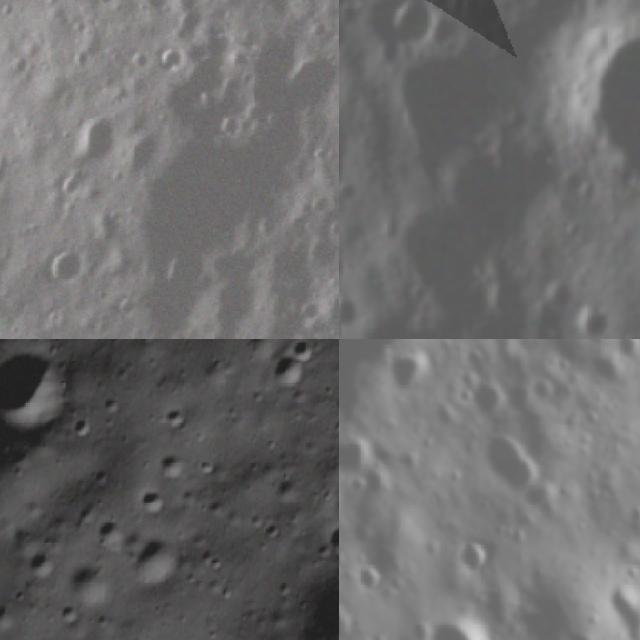crater: (86, 72, 317, 305), (554, 0, 640, 204), (0, 339, 94, 453), (154, 40, 252, 138), (233, 14, 316, 97), (116, 520, 196, 602), (271, 32, 339, 125), (55, 546, 127, 619), (479, 429, 547, 497), (35, 235, 103, 302), (68, 104, 132, 170), (256, 344, 321, 407), (122, 476, 178, 532), (16, 535, 70, 591), (148, 438, 202, 492), (595, 582, 640, 640), (152, 392, 202, 442), (305, 266, 339, 339), (88, 511, 137, 560), (418, 609, 493, 640), (385, 344, 430, 393), (272, 339, 330, 376), (47, 593, 92, 640), (390, 0, 435, 46), (452, 533, 497, 577), (583, 347, 627, 390), (339, 430, 373, 484), (465, 377, 507, 420), (66, 408, 105, 448), (506, 381, 541, 423), (315, 504, 339, 565), (72, 0, 149, 19), (266, 320, 339, 339), (357, 558, 385, 602), (578, 306, 614, 339), (98, 390, 130, 423), (530, 376, 562, 408), (579, 406, 610, 437), (339, 294, 360, 334), (339, 598, 358, 640), (198, 629, 247, 640), (339, 254, 351, 283)
